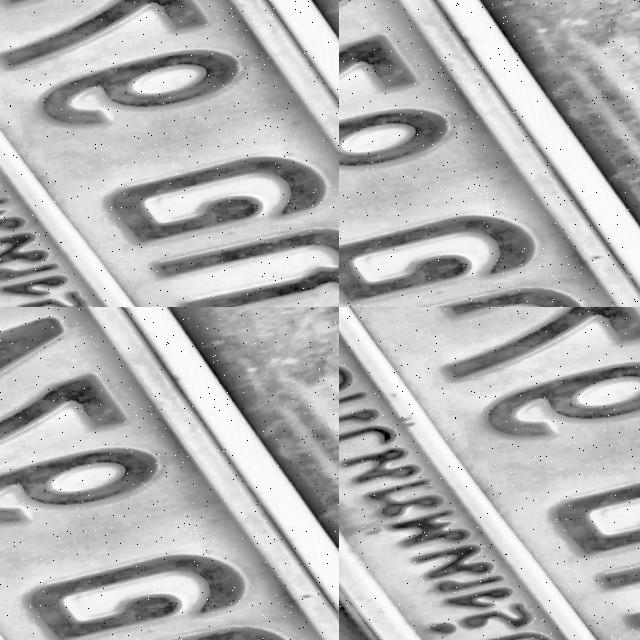license-plate: (339, 307, 640, 640), (30, 604, 128, 640)
